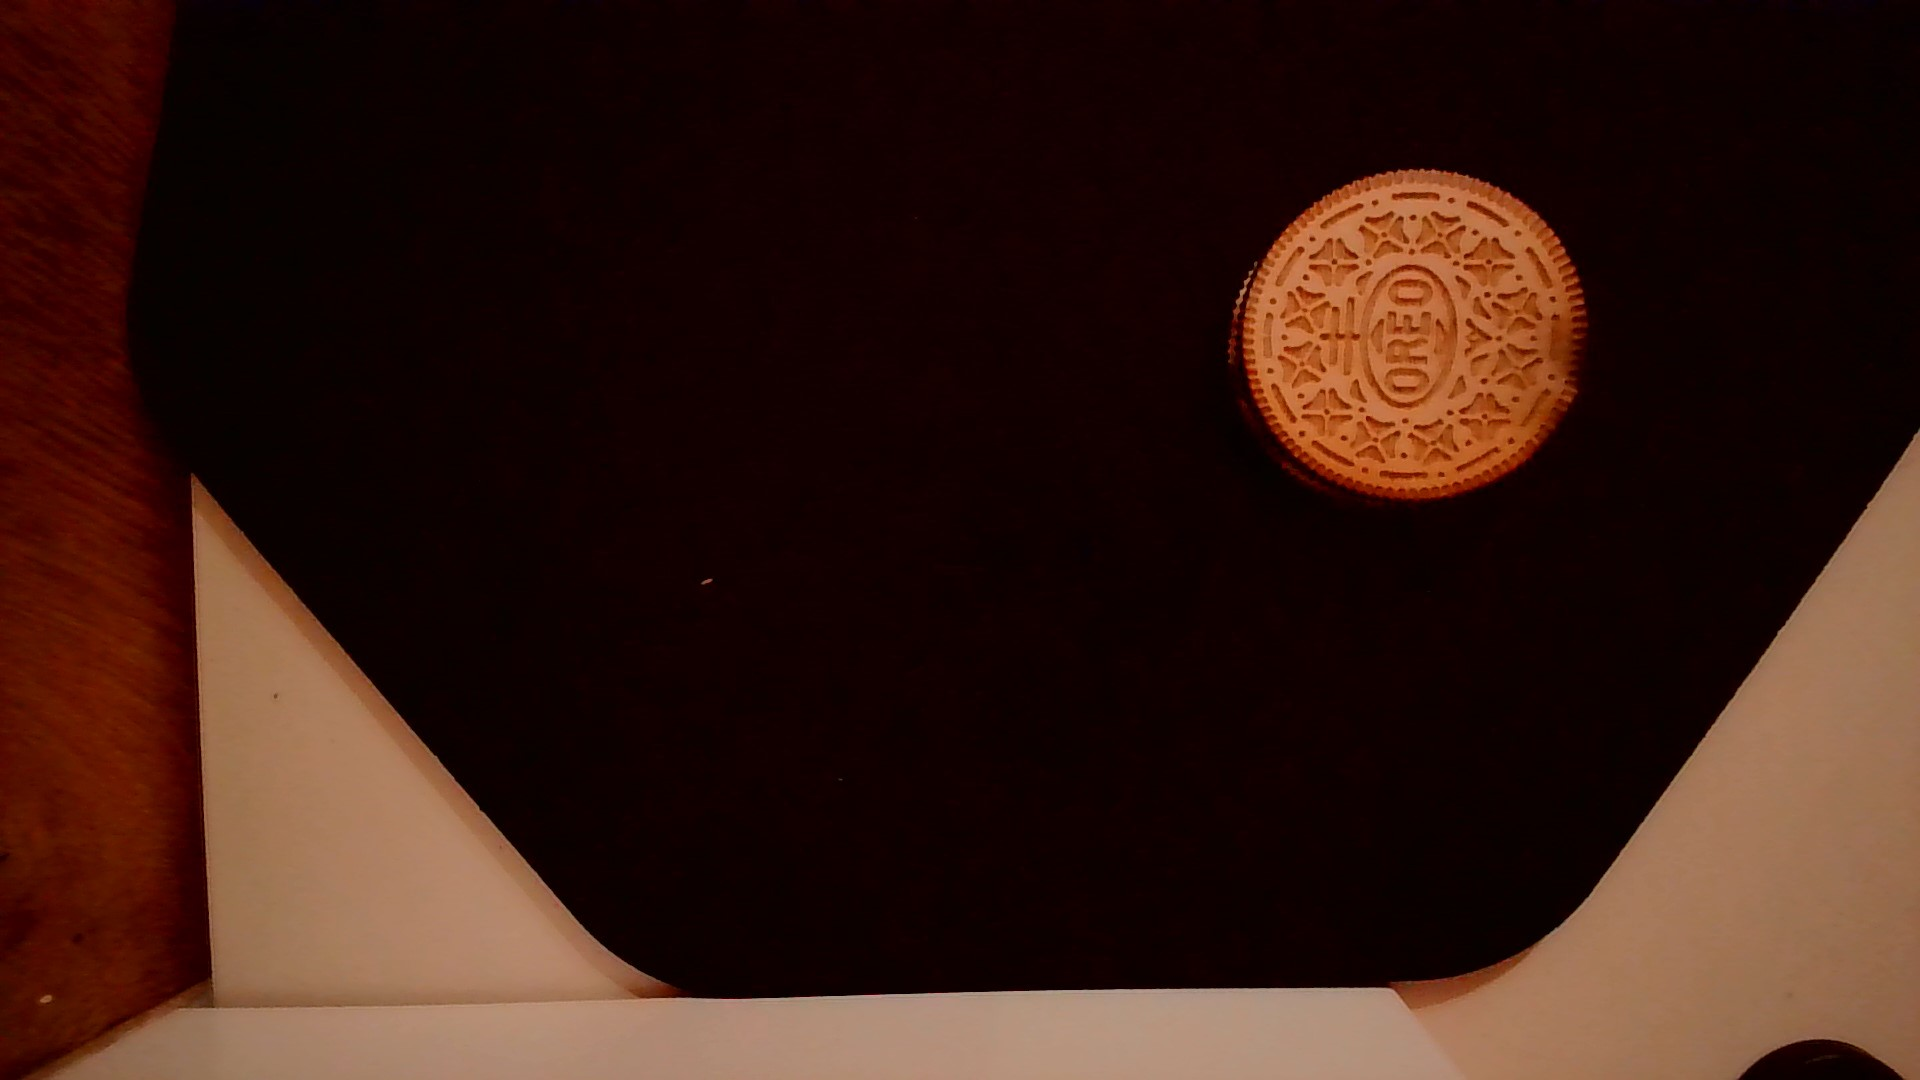Oréo: (1215, 161, 1596, 516)
